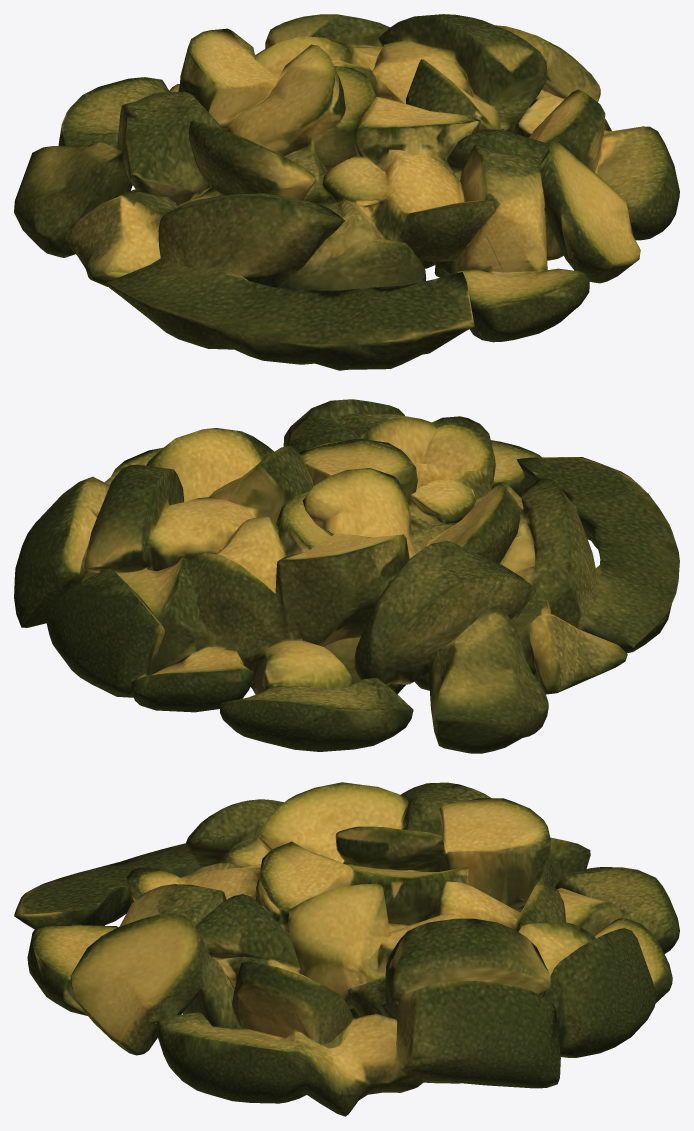
The model's file is Calabaza_Cocida.fbx.
The picture shows the model from 3 angles, top to bottom: view 1: azimuth 30°, elevation 25°; view 2: azimuth 150°, elevation 25°; view 3: azimuth 270°, elevation 25°; orthographic projection. The views are drawn at different scales.
Parts seen in each view (by area): view 1: Mesh_0; view 2: Mesh_0; view 3: Mesh_0.
Part boxes in pixels (x1=…): Mesh_0: x1=14, y1=14, x2=679, y2=370; Mesh_0: x1=14, y1=399, x2=679, y2=753; Mesh_0: x1=14, y1=782, x2=679, y2=1116.
Bounding box in the file's own units: 177 × 55.15 × 189.
Materials: 1 (1 with a texture image).
